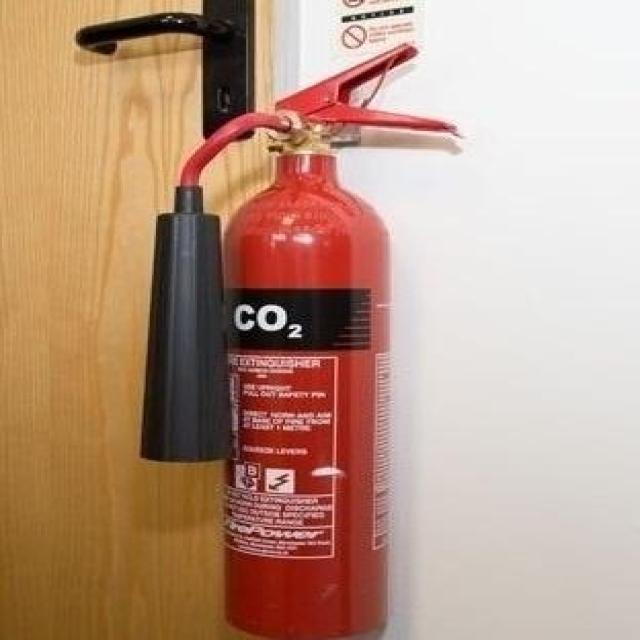fire_extinguisher: (132, 36, 467, 638)
